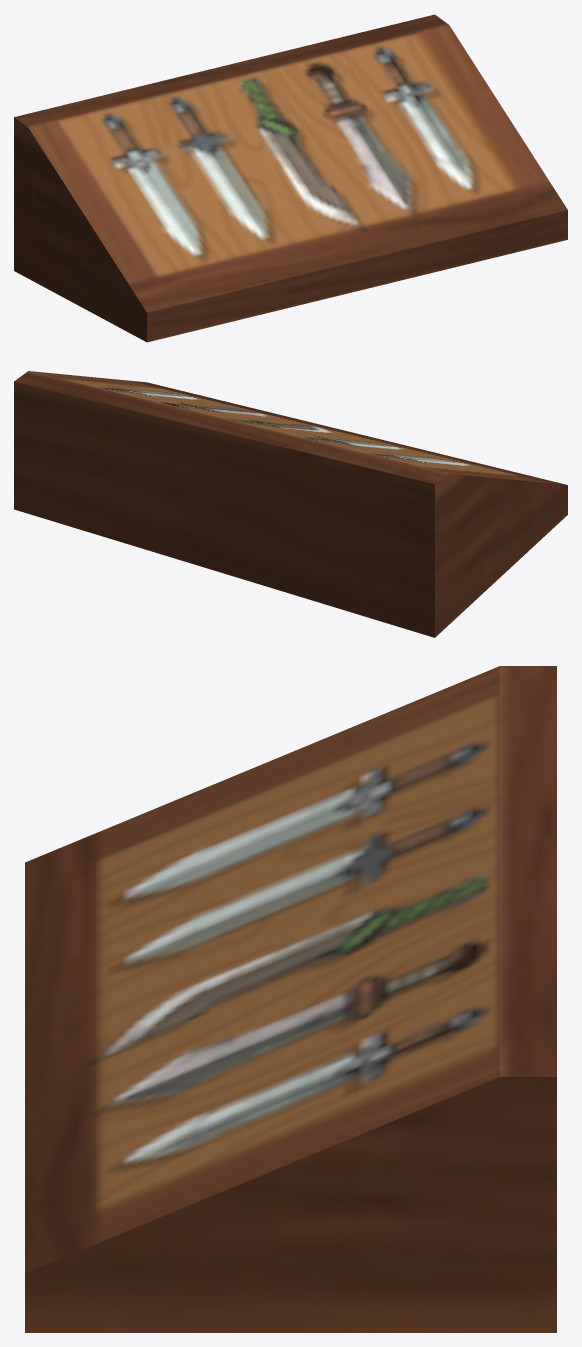
File: etc_Sword_shelves01.FBX
The picture shows the model from 3 angles, top to bottom: view 1: azimuth 30°, elevation 25°; view 2: azimuth 150°, elevation 25°; view 3: azimuth 270°, elevation 25°; orthographic projection. The views are drawn at different scales.
Visible parts, largest first — view 1: etc_Sword_shelves01; view 2: etc_Sword_shelves01; view 3: etc_Sword_shelves01.
Part boxes in pixels (box(x1,y1,x2,y2)): etc_Sword_shelves01: box(14, 14, 567, 342); etc_Sword_shelves01: box(14, 371, 567, 637); etc_Sword_shelves01: box(25, 666, 556, 1332).
Bounding box in the file's own units: 209 × 72.88 × 114.
